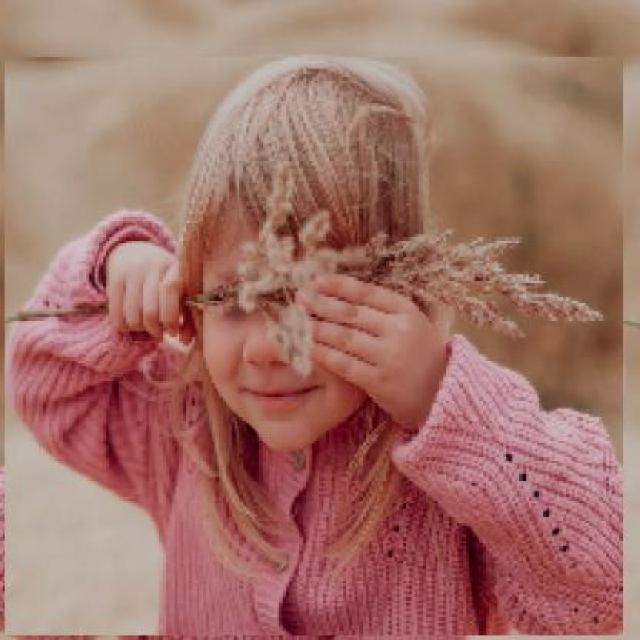child: (3, 57, 623, 637)
